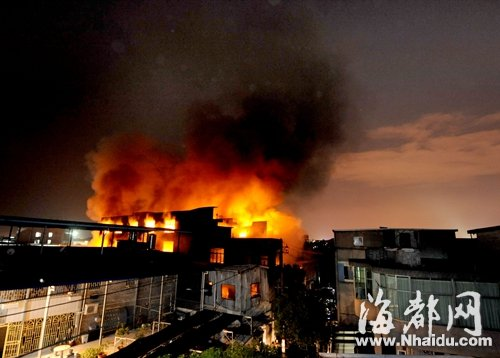fire: (96, 183, 310, 256)
smoke: (23, 17, 330, 166)
